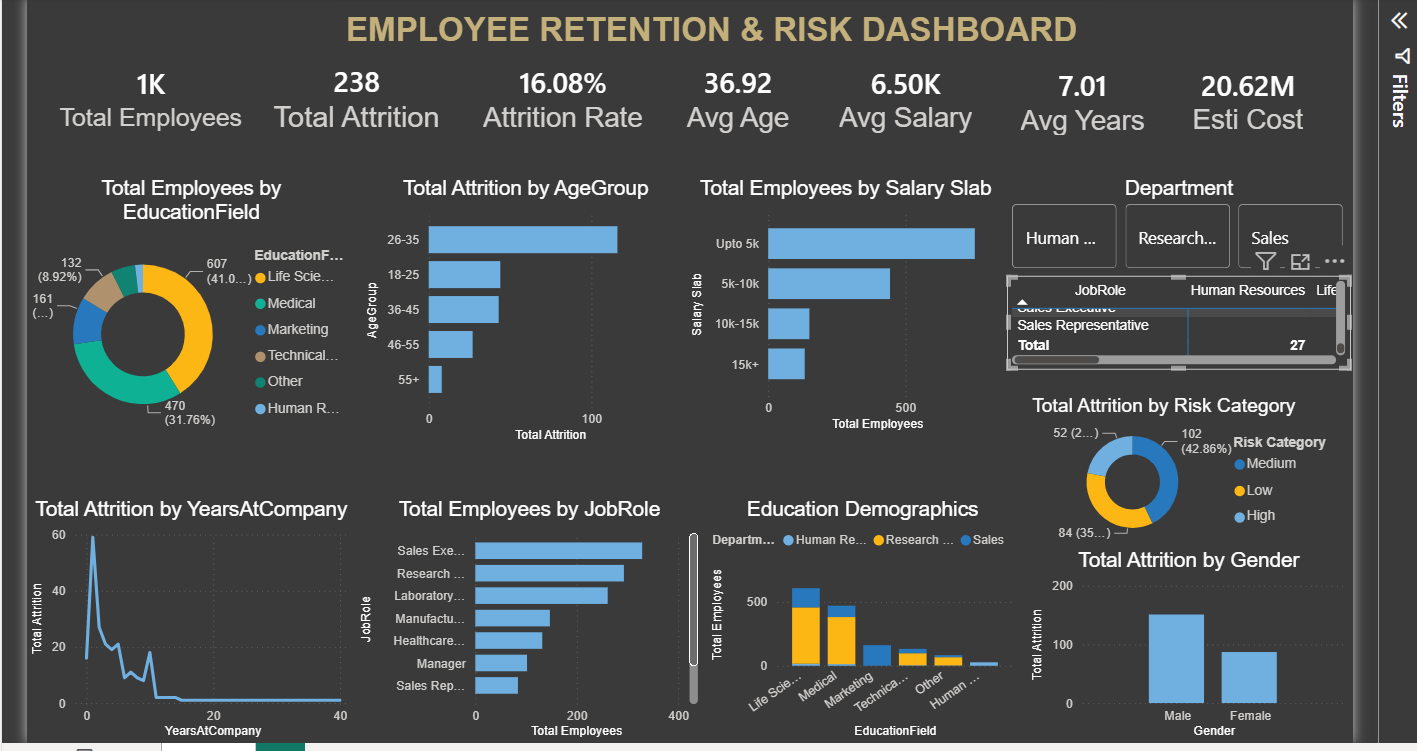

Layout of this report page (visuals, bound fields, positions):
{"tool":"powerbi","page":{"name":"EMPLOYEE RETENTION","canvas":[1280,720],"ordinal":0},"visuals":[{"type":"textbox","box":[9.6,0,439.1,43.9],"z":0},{"type":"textbox","box":[303.3,8.2,734.1,70],"z":1},{"type":"cardVisual","fields":{"Data":["HR_Analytics.Total Attrition"]},"box":[205.1,48.3,224.4,96.5],"z":2},{"type":"cardVisual","fields":{"Data":["HR_Analytics.Attrition Rate"]},"box":[404.2,48.3,224.4,96.5],"z":3},{"type":"cardVisual","fields":{"Data":["HR_Analytics.Avg Age"]},"box":[597.2,43.4,176.1,106.2],"z":4},{"type":"cardVisual","fields":{"Data":["HR_Analytics.Avg Salary"]},"box":[750.4,43.4,193,108.6],"z":5},{"type":"cardVisual","fields":{"Data":["HR_Analytics.Total Employees"]},"box":[0,43.4,237.7,106.2],"z":6},{"type":"cardVisual","fields":{"Data":["HR_Analytics.Avg Years"]},"box":[927.8,48.3,181,103.8],"z":7},{"type":"cardVisual","fields":{"Data":["HR_Analytics.Estimated Cost"]},"box":[1091.8,49.5,171.3,100.1],"z":8},{"type":"donutChart","fields":{"Category":["HR_Analytics.EducationField"],"Y":["HR_Analytics.Total Employees"]},"box":[0,172.5,317.3,261.8],"z":9},{"type":"clusteredBarChart","fields":{"Category":["HR_Analytics.AgeGroup"],"Y":["HR_Analytics.Total Attrition"]},"box":[323.3,172.5,316.1,261.8],"z":10},{"type":"clusteredBarChart","fields":{"Category":["HR_Analytics.Salary Slab"],"Y":["HR_Analytics.Total Employees"]},"box":[637,172.5,306.4,250.9],"z":11},{"type":"lineChart","fields":{"Category":["HR_Analytics.YearsAtCompany"],"Y":["HR_Analytics.Total Attrition"]},"box":[0,483,317,237.4],"z":12},{"type":"clusteredBarChart","fields":{"Category":["HR_Analytics.JobRole"],"Y":["HR_Analytics.Total Employees"]},"box":[317.3,482.6,335.4,237.7],"z":13},{"type":"columnChart","title":"Education Demographics","fields":{"Category":["HR_Analytics.EducationField"],"Series":["HR_Analytics.Department"],"Y":["HR_Analytics.Total Employees"]},"box":[656.3,482.6,300.4,237.7],"z":14},{"type":"advancedSlicerVisual","fields":{"Values":["HR_Analytics.Department"]},"box":[945.8,172.5,331.8,95.3],"z":15},{"type":"pivotTable","fields":{"Rows":["HR_Analytics.JobRole"],"Columns":["HR_Analytics.EducationField"],"Values":["HR_Analytics.Total Employees"]},"box":[945.8,269,331.8,90.5],"z":16},{"type":"donutChart","fields":{"Category":["HR_Analytics.Risk Category"],"Y":["HR_Analytics.Total Attrition"]},"box":[965.2,383.6,298,148.4],"z":17},{"type":"columnChart","fields":{"Category":["HR_Analytics.Gender"],"Y":["HR_Analytics.Total Attrition"]},"box":[965.2,532,312.5,188.2],"z":18}]}

Visuals, with their boxes on the page's 1280x720 design canvas (x1, y1, x2, y2). These are canvas units, not pixel positions in the 1417x751 screenshot, which may show the page scaled, cropped or inside an application window:
textbox: (10, 0, 449, 44)
textbox: (303, 8, 1037, 78)
cardVisual - HR_Analytics.Total Attrition: (205, 48, 430, 145)
cardVisual - HR_Analytics.Attrition Rate: (404, 48, 629, 145)
cardVisual - HR_Analytics.Avg Age: (597, 43, 773, 150)
cardVisual - HR_Analytics.Avg Salary: (750, 43, 943, 152)
cardVisual - HR_Analytics.Total Employees: (0, 43, 238, 150)
cardVisual - HR_Analytics.Avg Years: (928, 48, 1109, 152)
cardVisual - HR_Analytics.Estimated Cost: (1092, 50, 1263, 150)
donutChart - HR_Analytics.EducationField x HR_Analytics.Total Employees: (0, 172, 317, 434)
clusteredBarChart - HR_Analytics.AgeGroup x HR_Analytics.Total Attrition: (323, 172, 639, 434)
clusteredBarChart - HR_Analytics.Salary Slab x HR_Analytics.Total Employees: (637, 172, 943, 423)
lineChart - HR_Analytics.YearsAtCompany x HR_Analytics.Total Attrition: (0, 483, 317, 720)
clusteredBarChart - HR_Analytics.JobRole x HR_Analytics.Total Employees: (317, 483, 653, 720)
"Education Demographics" columnChart: (656, 483, 957, 720)
advancedSlicerVisual - HR_Analytics.Department: (946, 172, 1278, 268)
pivotTable - HR_Analytics.JobRole x HR_Analytics.EducationField: (946, 269, 1278, 360)
donutChart - HR_Analytics.Risk Category x HR_Analytics.Total Attrition: (965, 384, 1263, 532)
columnChart - HR_Analytics.Gender x HR_Analytics.Total Attrition: (965, 532, 1278, 720)
